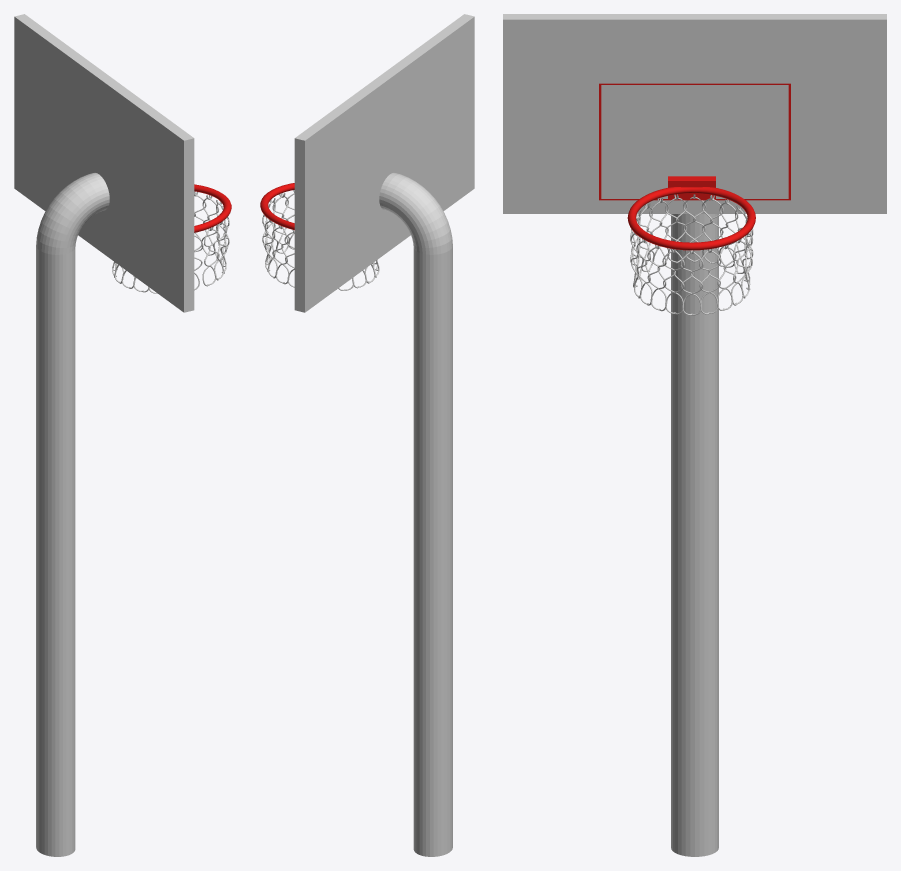
File: Park1_B2.glb
The picture shows the model from 3 angles, left to right: view 1: azimuth 30°, elevation 25°; view 2: azimuth 150°, elevation 25°; view 3: azimuth 270°, elevation 25°; orthographic projection. The views are drawn at different scales.
Visible parts, largest first — view 1: Park1-B2; view 2: Park1-B2; view 3: Park1-B2.
Part boxes in pixels (bbox=[...]): Park1-B2: bbox=[14, 14, 231, 856]; Park1-B2: bbox=[260, 14, 474, 856]; Park1-B2: bbox=[503, 14, 886, 856].
Bounding box in the file's own units: 7.94 × 31.27 × 12.68.
